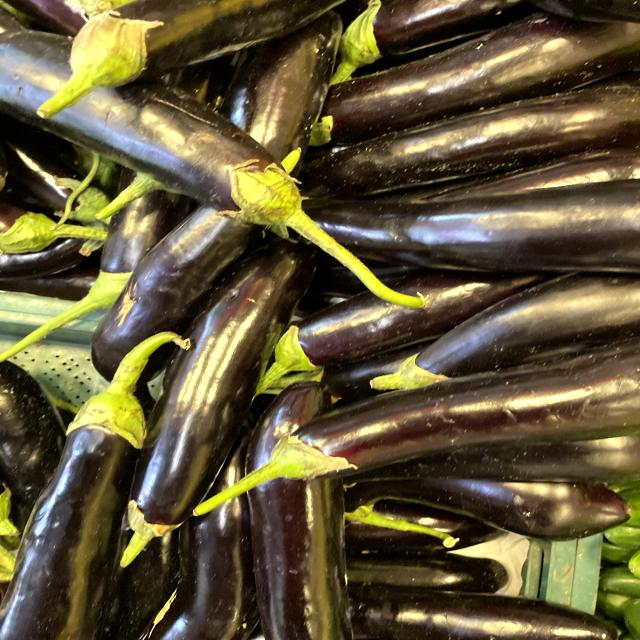eggplant: (0, 25, 444, 308), (188, 337, 640, 524), (0, 319, 204, 640)
